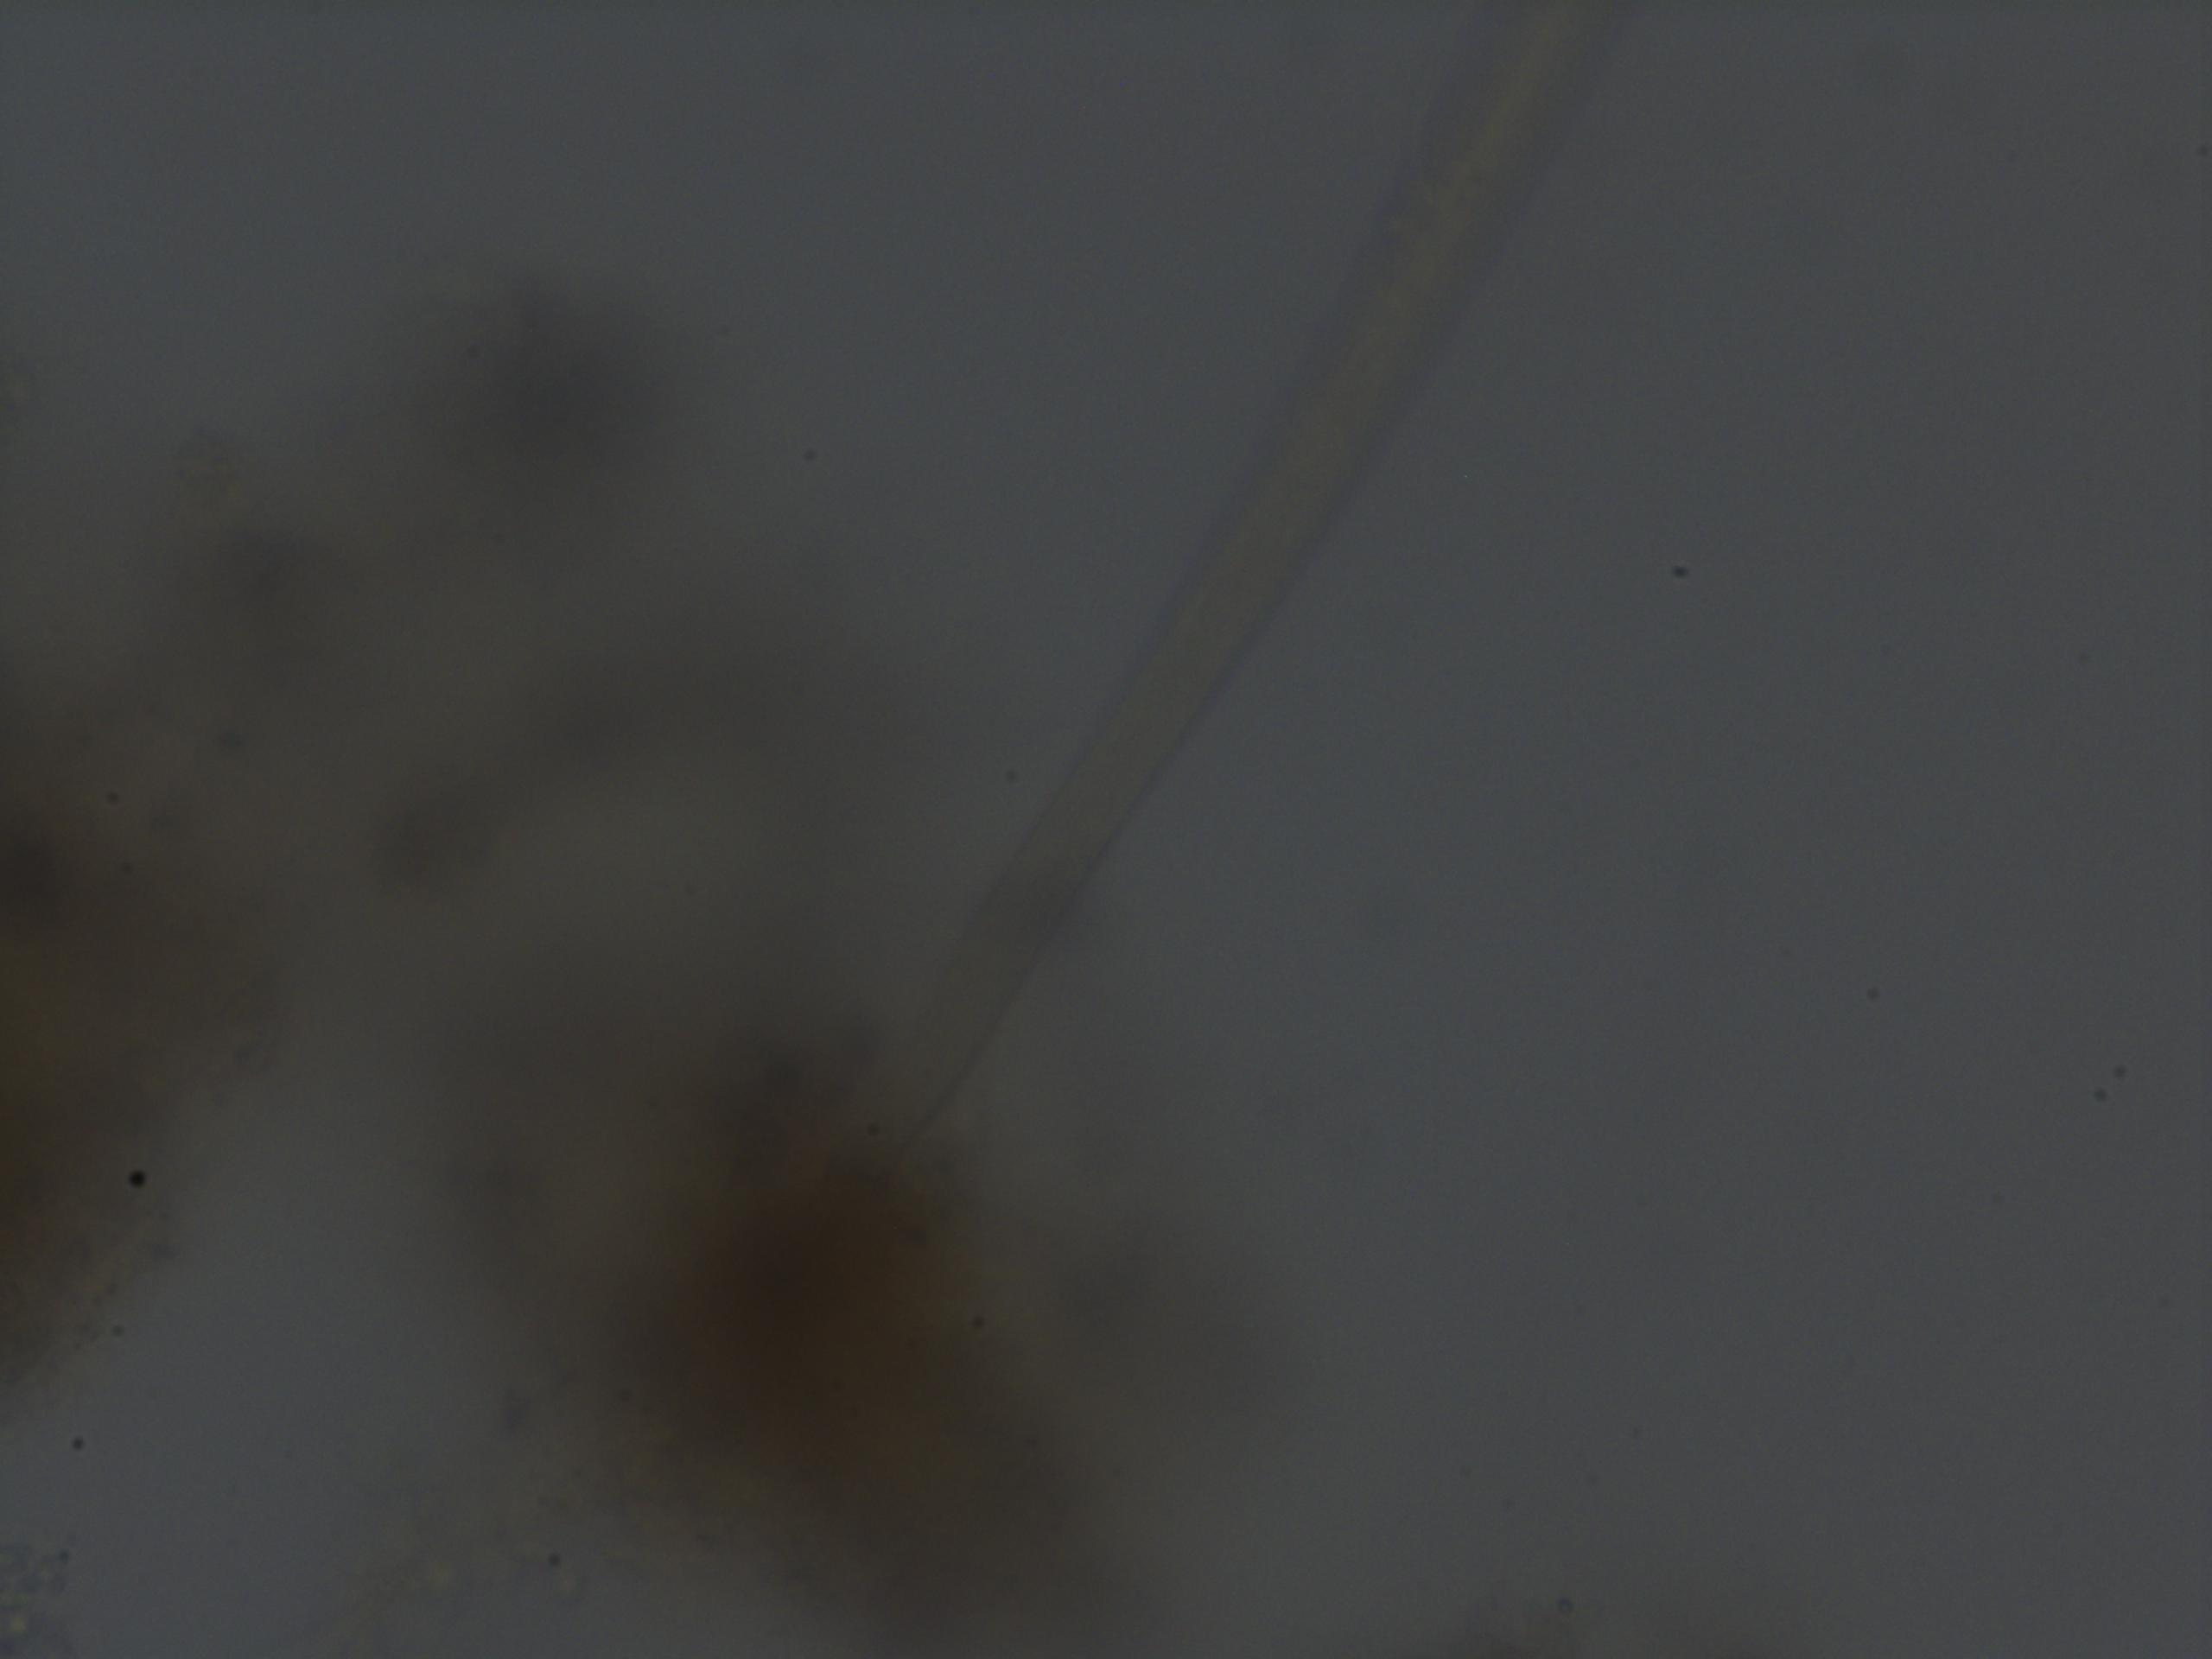filament: (850, 0, 1585, 1171)
